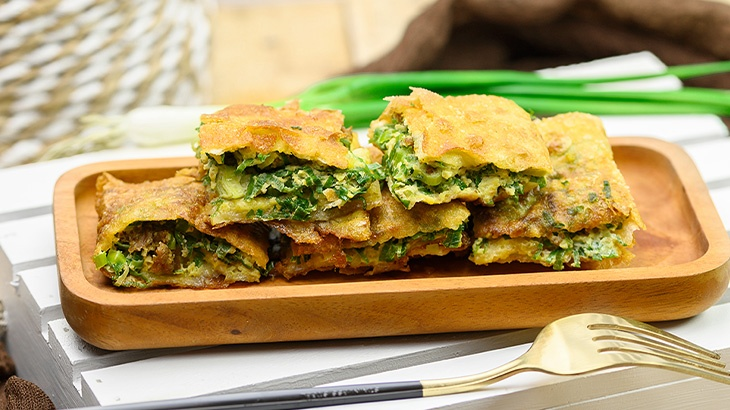martabak: (94, 87, 643, 290)
